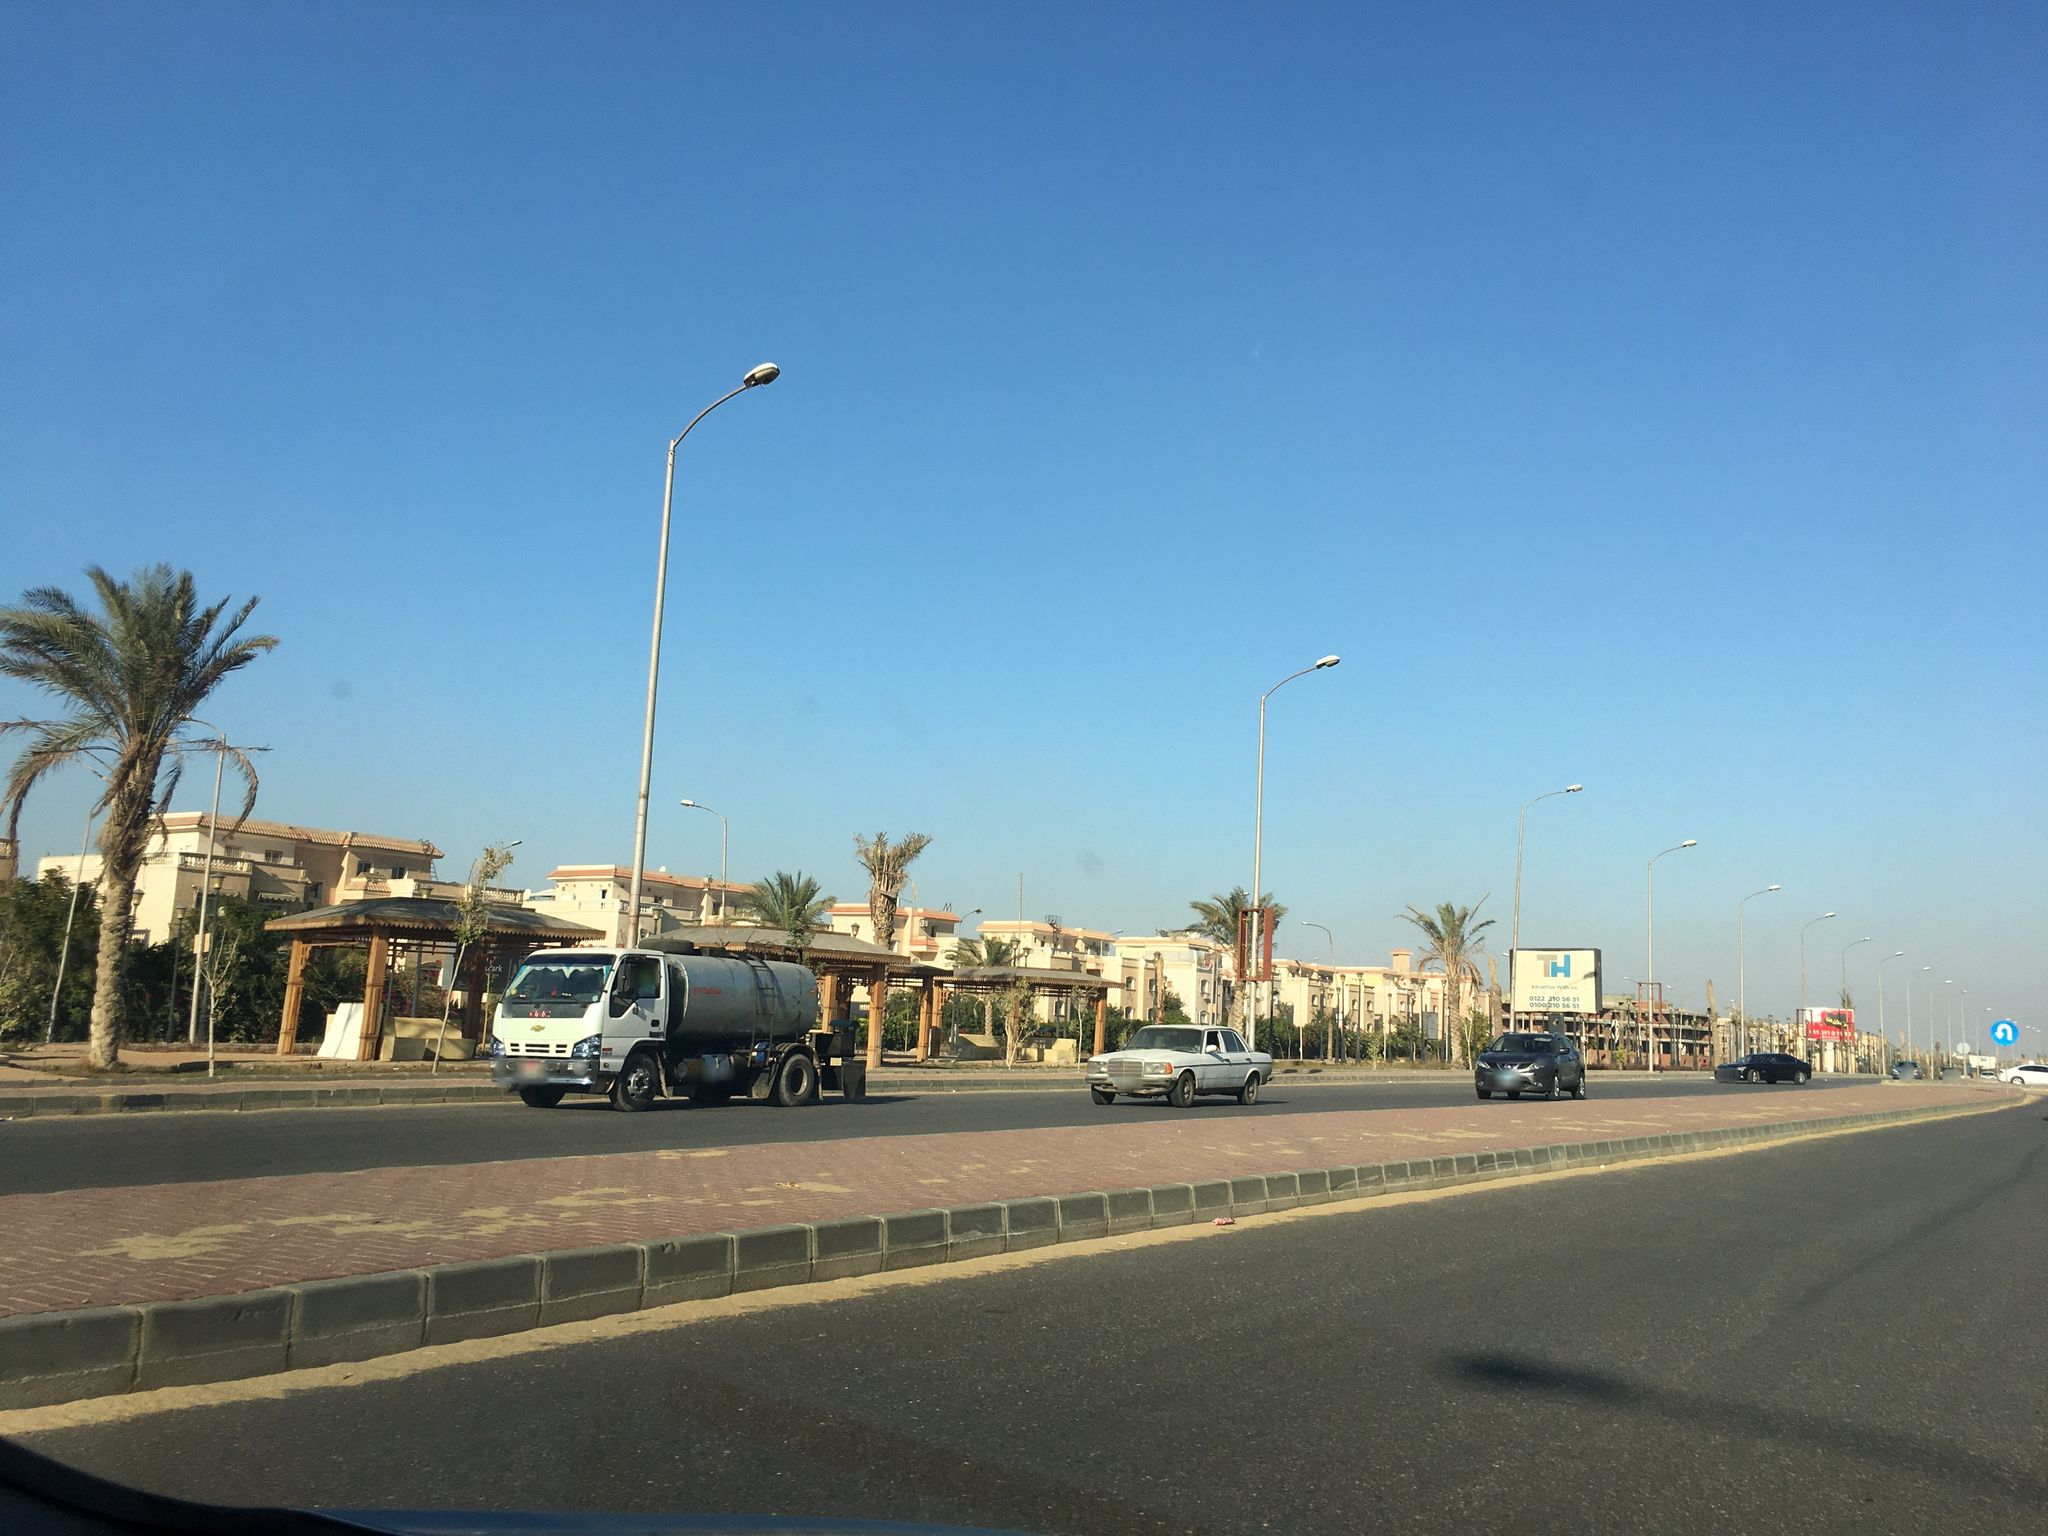car: (1084, 1023, 1274, 1105), (1474, 1029, 1587, 1099), (1713, 1052, 1813, 1084), (1996, 1063, 2048, 1083), (1892, 1060, 1921, 1079)
truck: (489, 945, 869, 1112)
